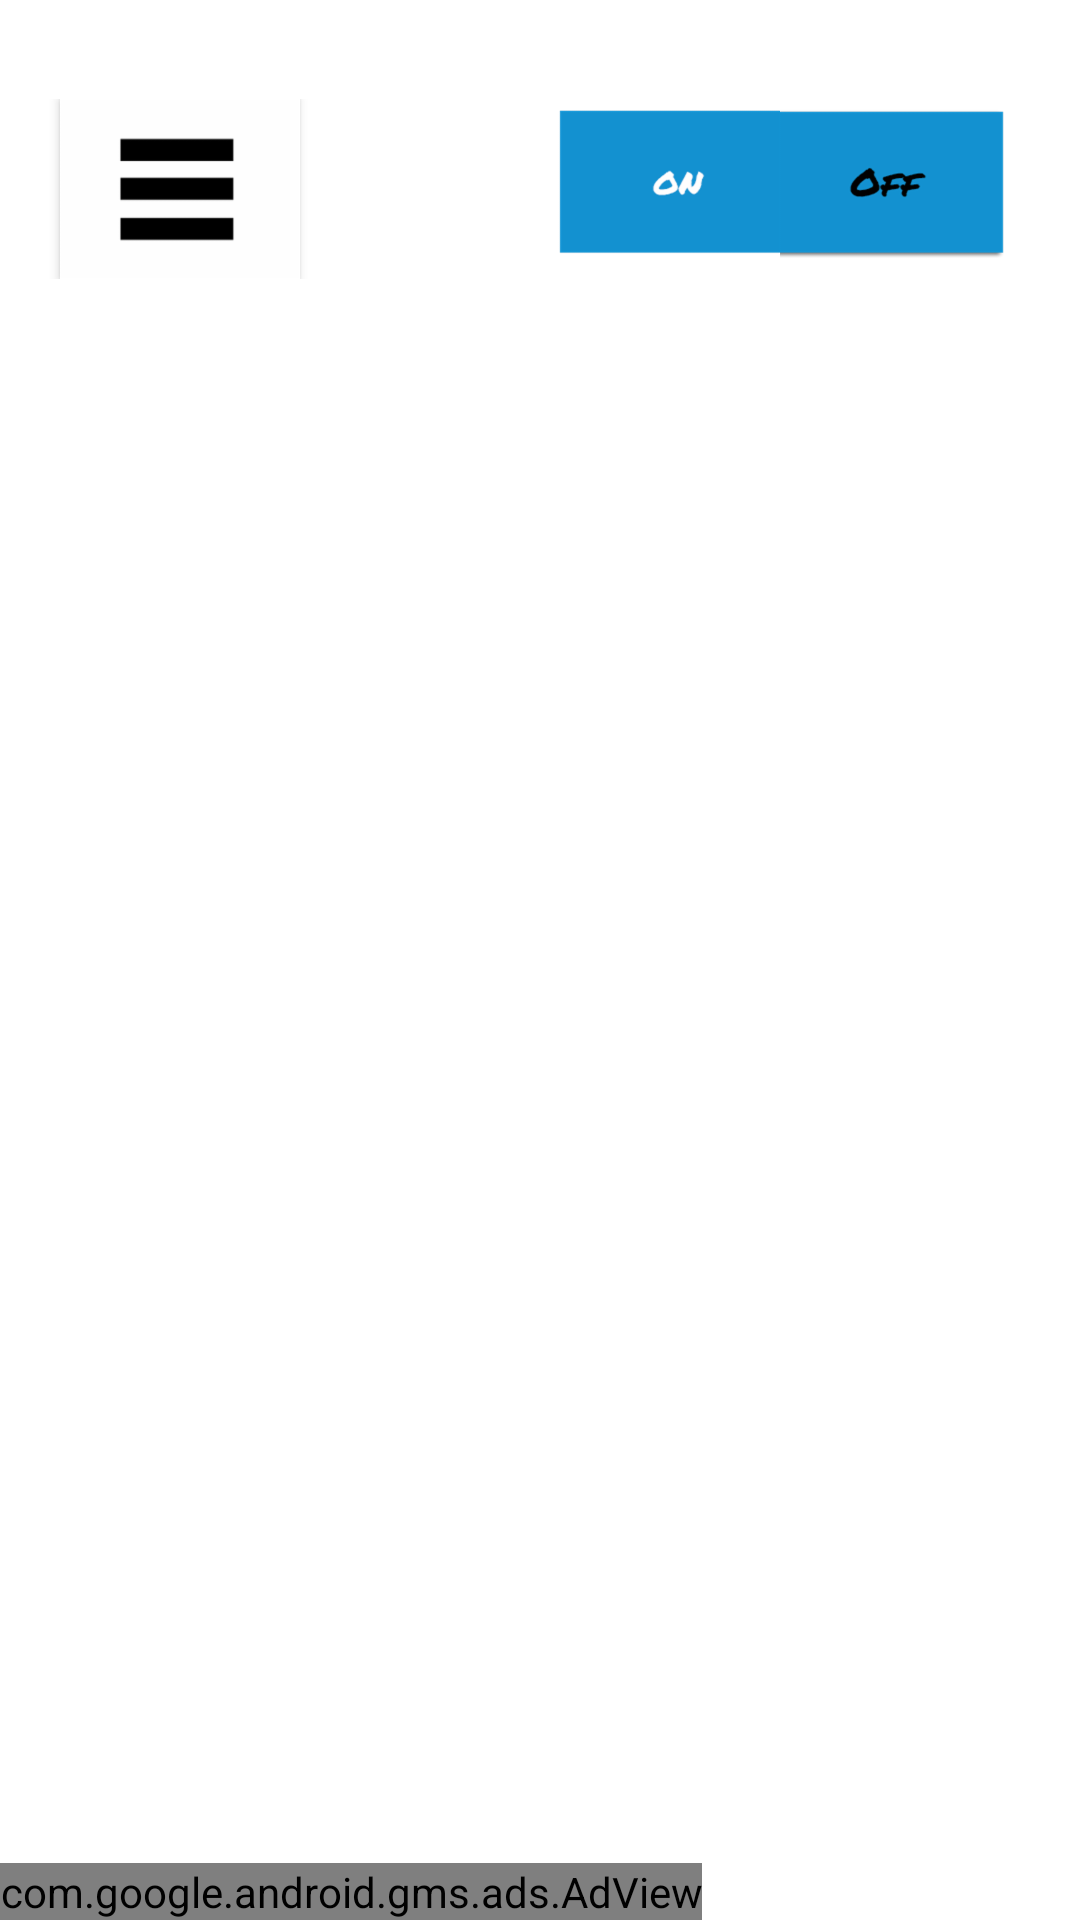

Point at icon controls on the screen. Image size 1080 x 1920, points as (x=x, y=y).
hamburger: (x=177, y=189)
